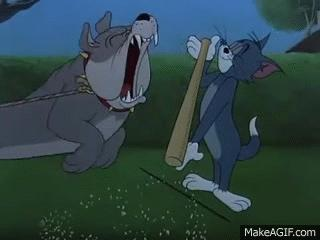tom: (175, 32, 287, 213)
